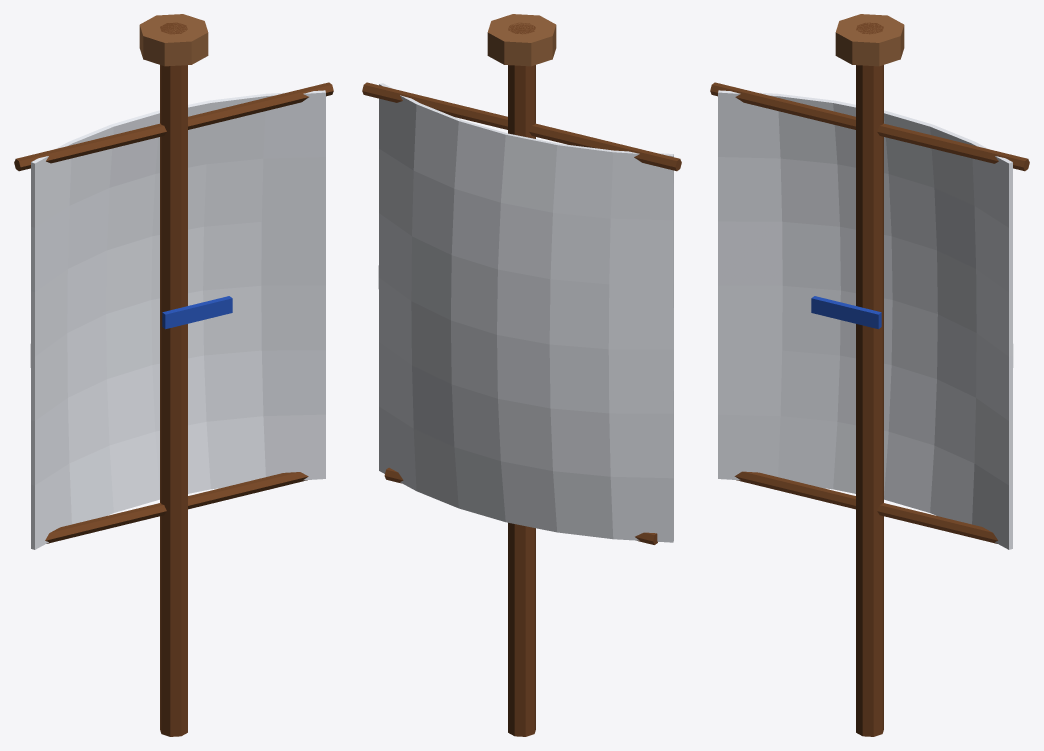
Rendered from MarineSail.fbx.
3 views of the same model, side by side, from view 1: azimuth 30°, elevation 25°; view 2: azimuth 150°, elevation 25°; view 3: azimuth 330°, elevation 25° (orthographic).
Parts seen in each view (by area): view 1: MarineSail; view 2: MarineSail; view 3: MarineSail.
Part boxes in pixels (bbox=[...]): MarineSail: bbox=[14, 14, 333, 736]; MarineSail: bbox=[362, 14, 681, 736]; MarineSail: bbox=[710, 14, 1029, 736].
Size of the model in its own units: 11.2 by 24 by 3.1.
Materials: 1 (1 with a texture image).
